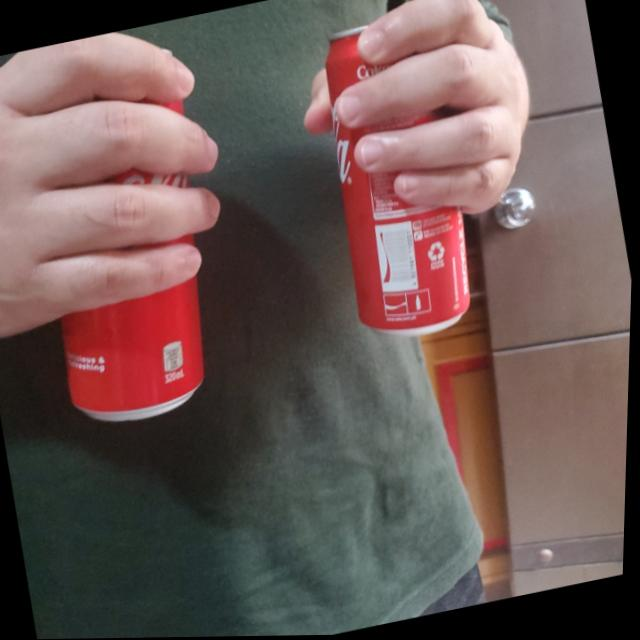coke: (8, 48, 241, 436), (303, 10, 492, 344)
